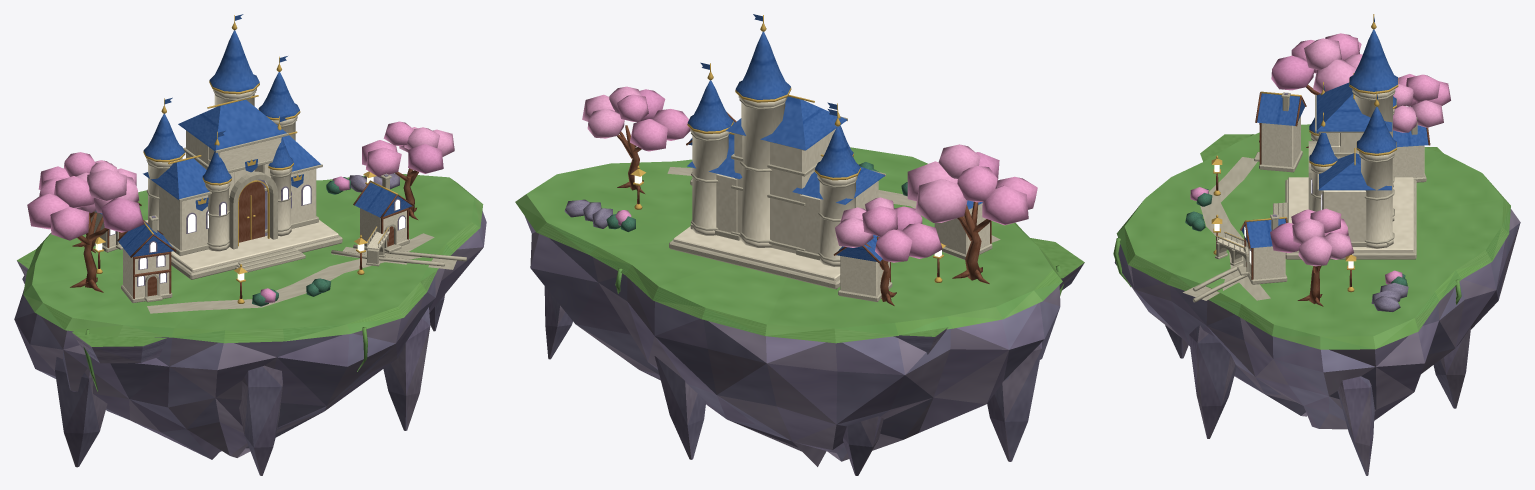
Rendered from royal-island-right-low.glb.
3 views of the same model, side by side, from view 1: azimuth 30°, elevation 25°; view 2: azimuth 150°, elevation 25°; view 3: azimuth 270°, elevation 25° (orthographic). The views are drawn at different scales.
Visible parts, largest first — view 1: royal-island-right; view 2: royal-island-right; view 3: royal-island-right.
Boxes of the visible parts, x1,y1,x2,y2 form: royal-island-right: [14, 14, 486, 475]; royal-island-right: [515, 14, 1084, 475]; royal-island-right: [1113, 14, 1520, 475].
Size of the model in its own units: 17.51 by 14.97 by 13.4.
10 materials, 10 textured.
